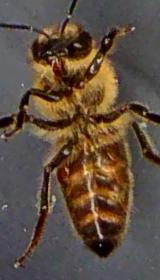varroa_mite: (52, 156, 74, 186)
